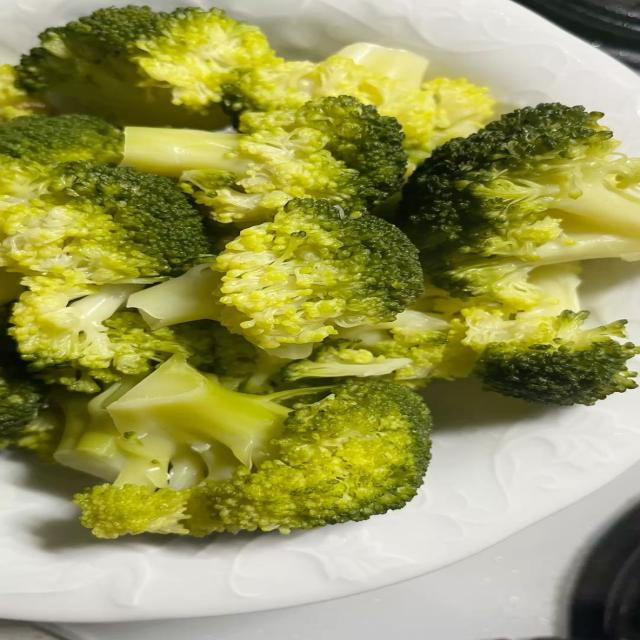broccoli: (56, 357, 430, 537), (0, 158, 208, 391), (128, 199, 423, 357), (400, 104, 639, 295), (124, 96, 406, 226), (224, 44, 493, 169), (214, 199, 423, 357), (17, 6, 274, 128), (0, 157, 209, 284), (463, 265, 639, 405), (127, 263, 287, 393), (12, 282, 190, 392), (421, 230, 639, 309), (282, 311, 468, 387), (0, 306, 59, 458), (171, 320, 288, 393), (127, 263, 220, 329), (0, 115, 123, 163), (282, 339, 412, 381), (0, 353, 44, 448), (0, 65, 48, 121), (0, 268, 24, 305)
